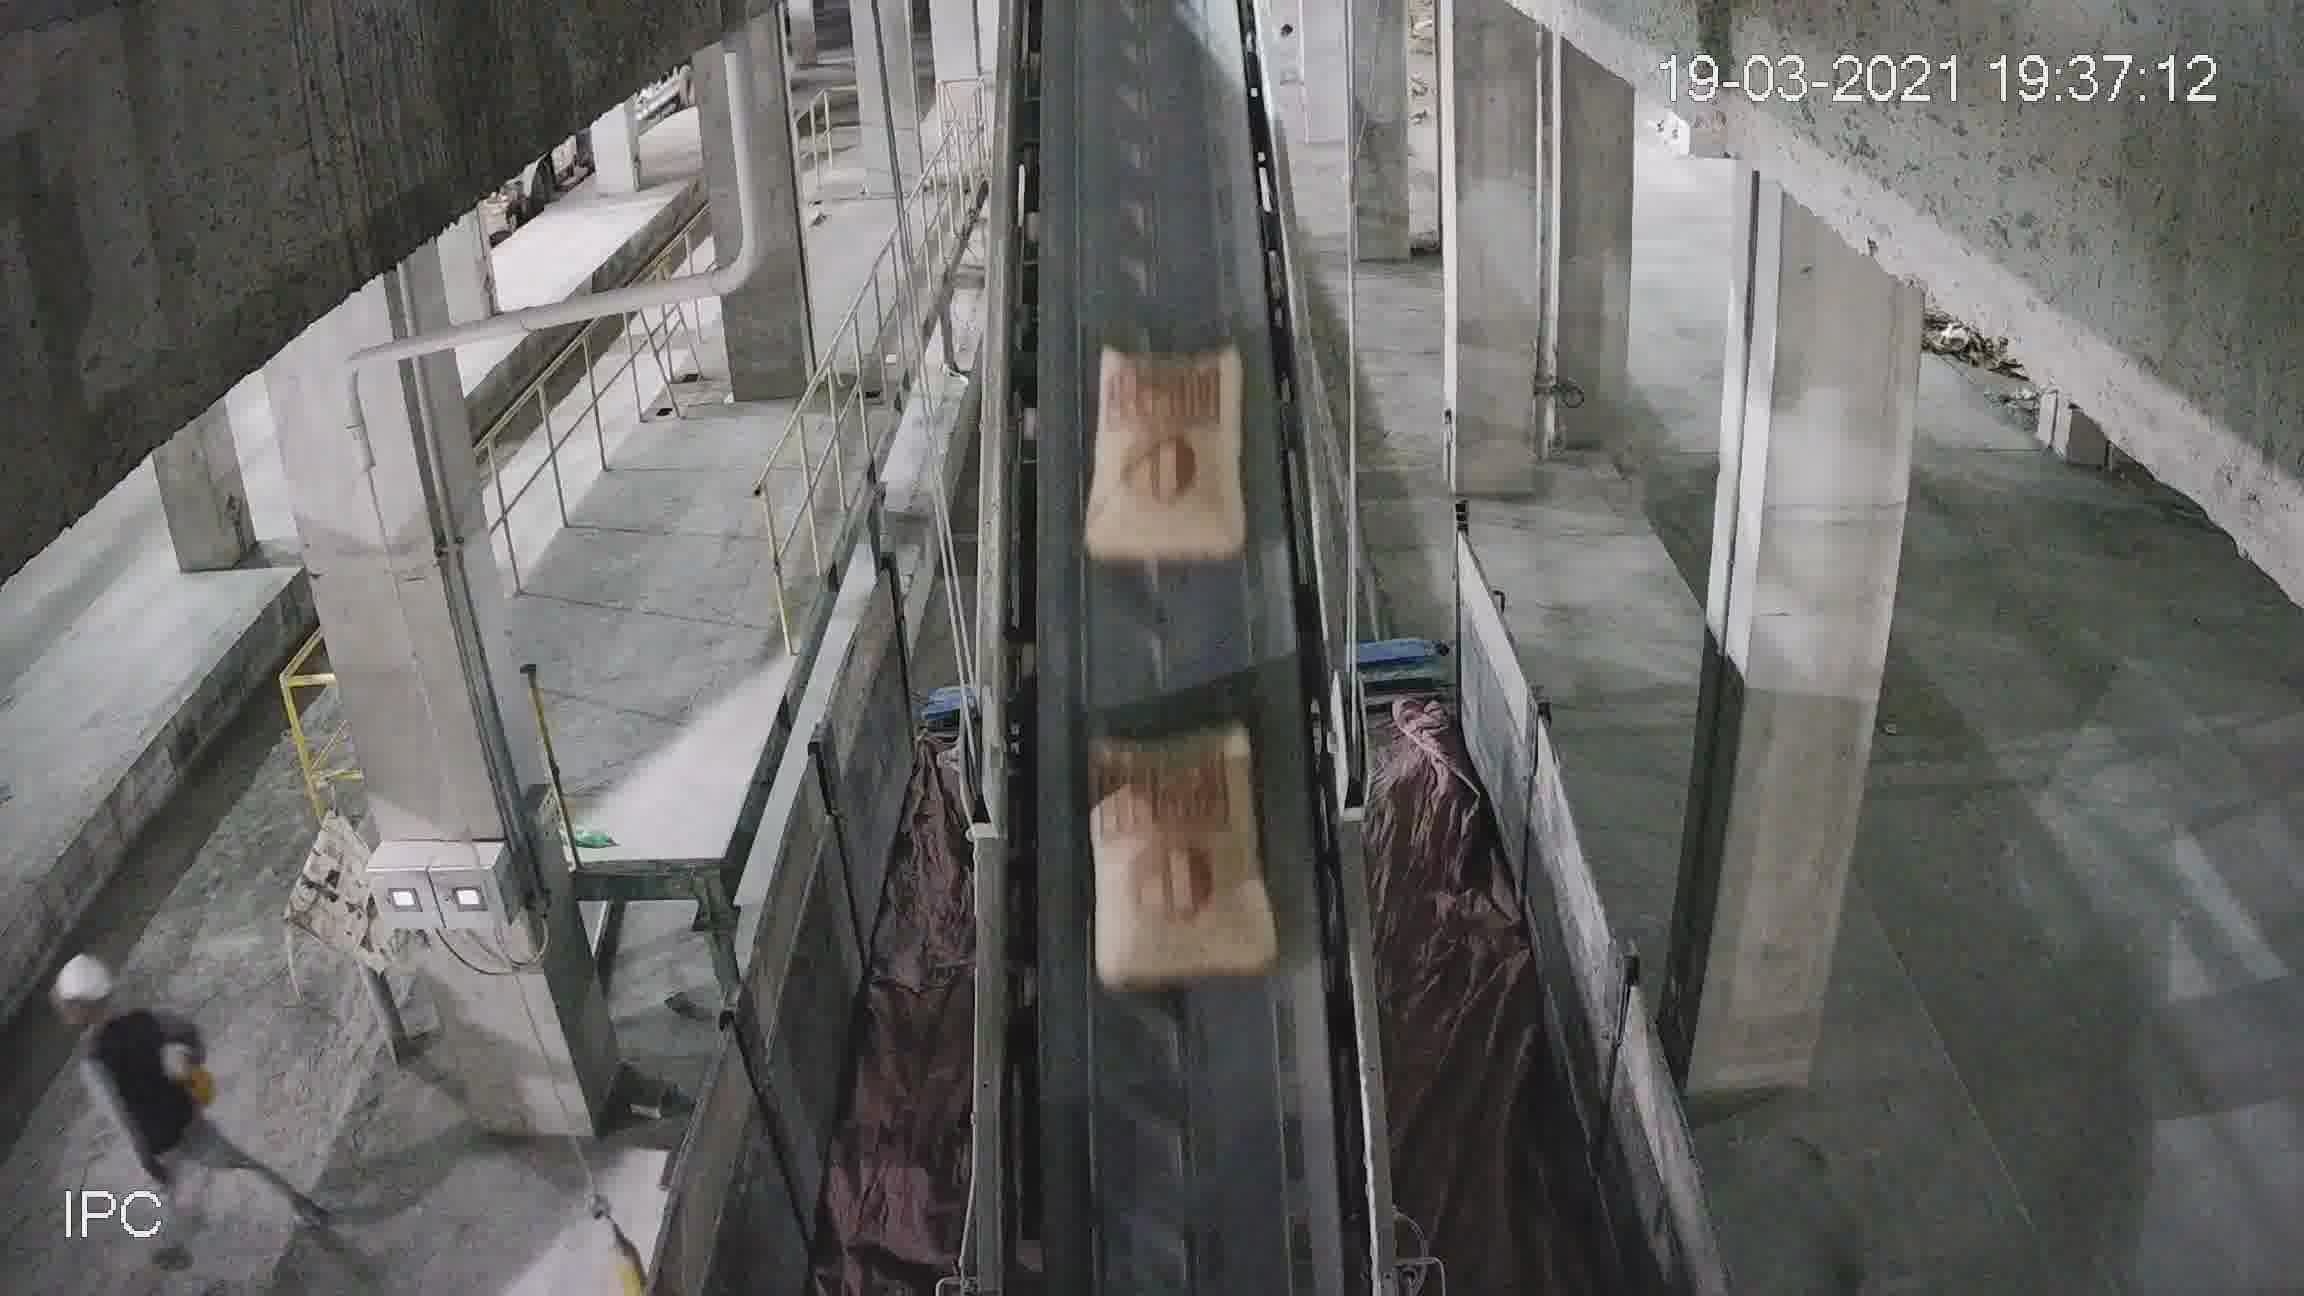bag: (1093, 733, 1266, 991), (1086, 348, 1247, 565)
belt: (983, 13, 1359, 1179)
